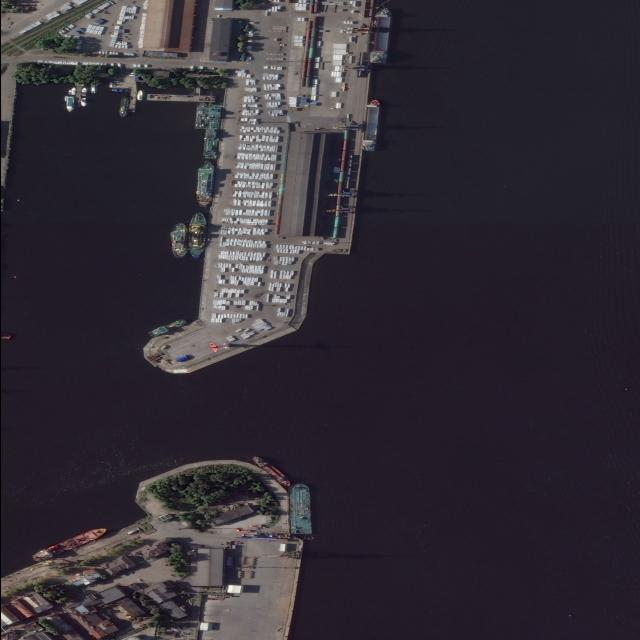ship: (30, 528, 107, 562), (368, 8, 393, 64), (251, 456, 291, 488), (288, 483, 312, 535), (362, 99, 382, 152), (195, 160, 215, 208), (186, 212, 206, 260), (146, 320, 186, 338), (168, 222, 186, 258), (117, 96, 128, 118), (66, 96, 74, 112), (136, 90, 143, 101), (106, 89, 130, 92), (89, 84, 96, 94), (80, 98, 86, 108), (80, 88, 86, 96), (70, 88, 75, 96), (64, 95, 68, 102), (108, 82, 112, 88), (67, 90, 71, 95)
